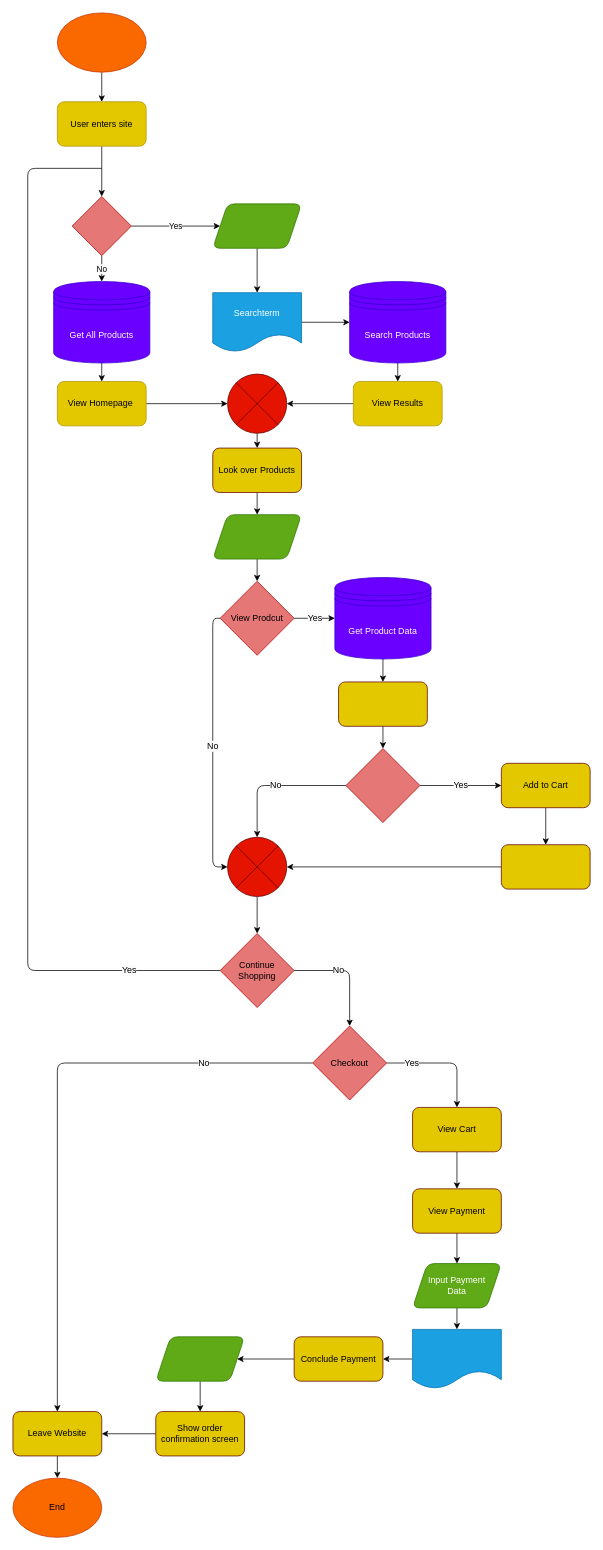
This 603x1550 diagram has some shape labels left out. The shapes that lost their labels are listed below. From the top down, each one's box as (x1, y1, x2, y2) in pixels, then its label:
(57, 12, 146, 72): Start
(71, 196, 131, 256): Search for Products
(212, 203, 302, 248): Input Search term
(212, 514, 302, 559): Select Product
(338, 681, 427, 726): Open Product Webpage
(345, 748, 420, 823): Add Prodcut to Cart
(501, 844, 590, 889): Show "Add to Cart" Confirmation
(155, 1336, 245, 1381): Send confirmation email
(412, 1329, 501, 1389): Payment Data
